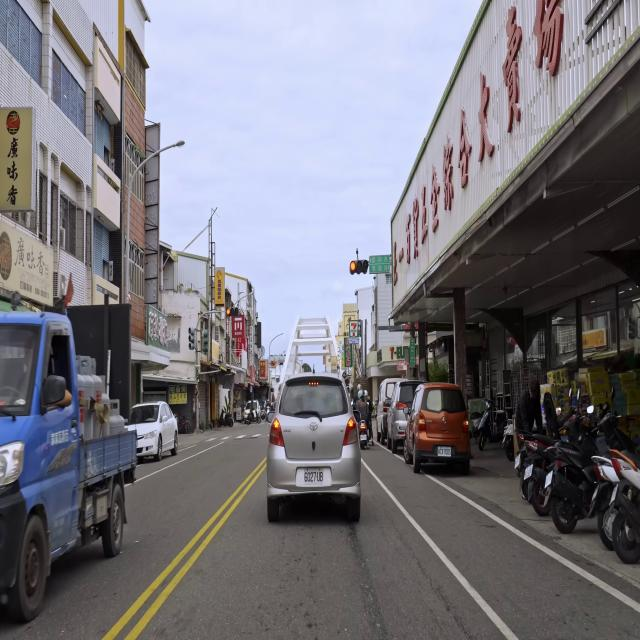red light: (349, 260, 369, 273), (225, 308, 240, 316)
